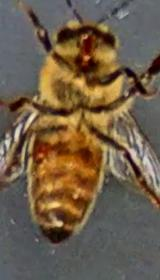varroa_mite: (33, 138, 64, 167)
